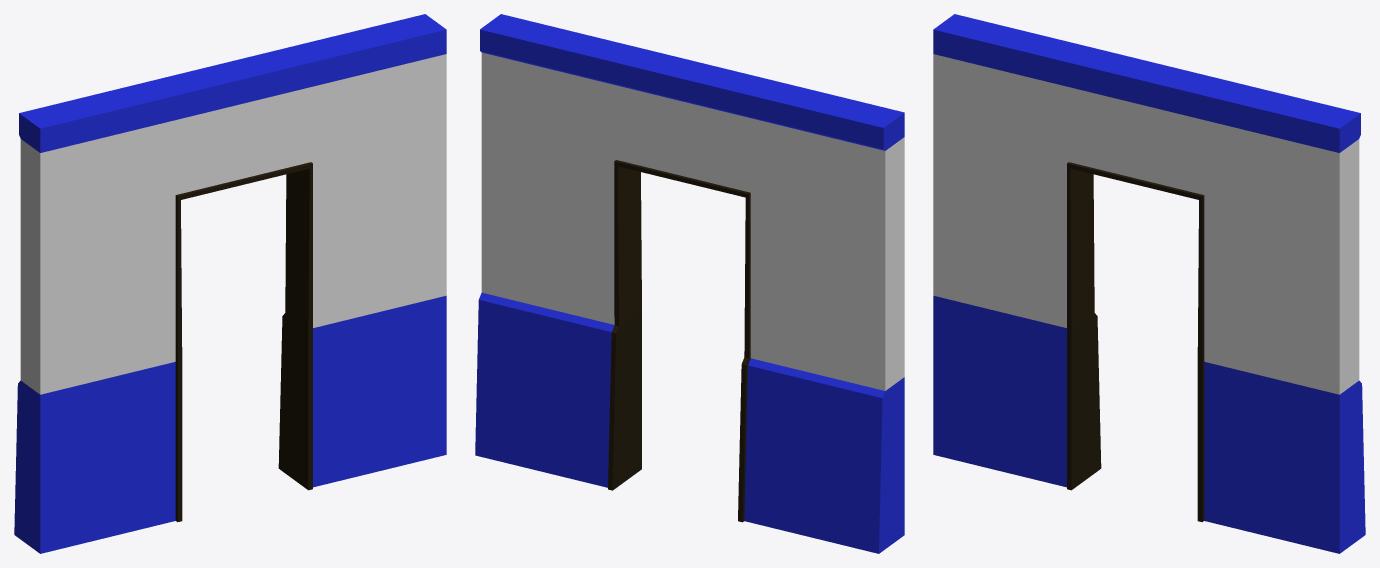
File: walldoor.fbx
3 views of the same model, side by side, from view 1: azimuth 30°, elevation 25°; view 2: azimuth 150°, elevation 25°; view 3: azimuth 330°, elevation 25° (orthographic).
Parts seen in each view (by area): view 1: Cube.001; view 2: Cube.001; view 3: Cube.001.
Boxes of the visible parts, x1,y1,x2,y2 form: Cube.001: (14,14,446,553); Cube.001: (475,14,904,553); Cube.001: (933,14,1365,553).
Size of the model in its own units: 12 by 12 by 1.52.
